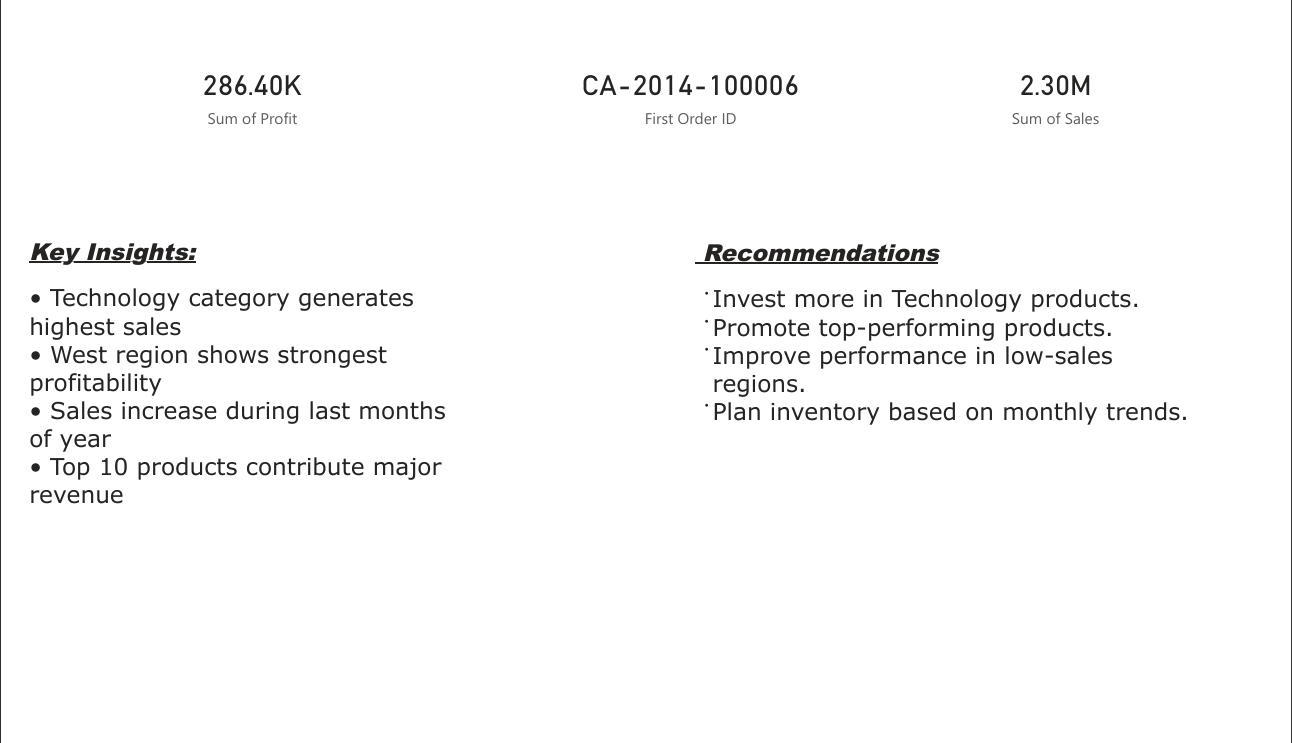

What the dashboard file says about the page in this screenshot:
{"tool":"powerbi","page":{"name":"Insights","canvas":[1280,720],"ordinal":1},"visuals":[{"type":"card","fields":{"Values":["Sum(Sample Superstone.Profit)"]},"box":[0,0,470,150],"z":0},{"type":"card","fields":{"Values":["Sum(Sample Superstone.Sales)"]},"box":[845,0,435,150],"z":2},{"type":"card","fields":{"Values":["Min(Sample Superstone.Order ID)"]},"box":[470,0,432.5,150],"z":3},{"type":"textbox","box":[0,215,470,150],"z":4},{"type":"textbox","box":[0,215,470,365],"z":5},{"type":"textbox","box":[686,216,520,314],"z":6}]}

Visuals, with their boxes in screenshot pixels (x1, y1, x2, y2), scaled from the page's 1280x720 canvas onto the 1292x743 screenshot:
card - Sum(Sample Superstone.Profit): (0,0,474,155)
card - Sum(Sample Superstone.Sales): (853,0,1291,155)
card - Min(Sample Superstone.Order ID): (474,0,911,155)
textbox: (0,222,474,377)
textbox: (0,222,474,599)
textbox: (692,223,1217,547)
